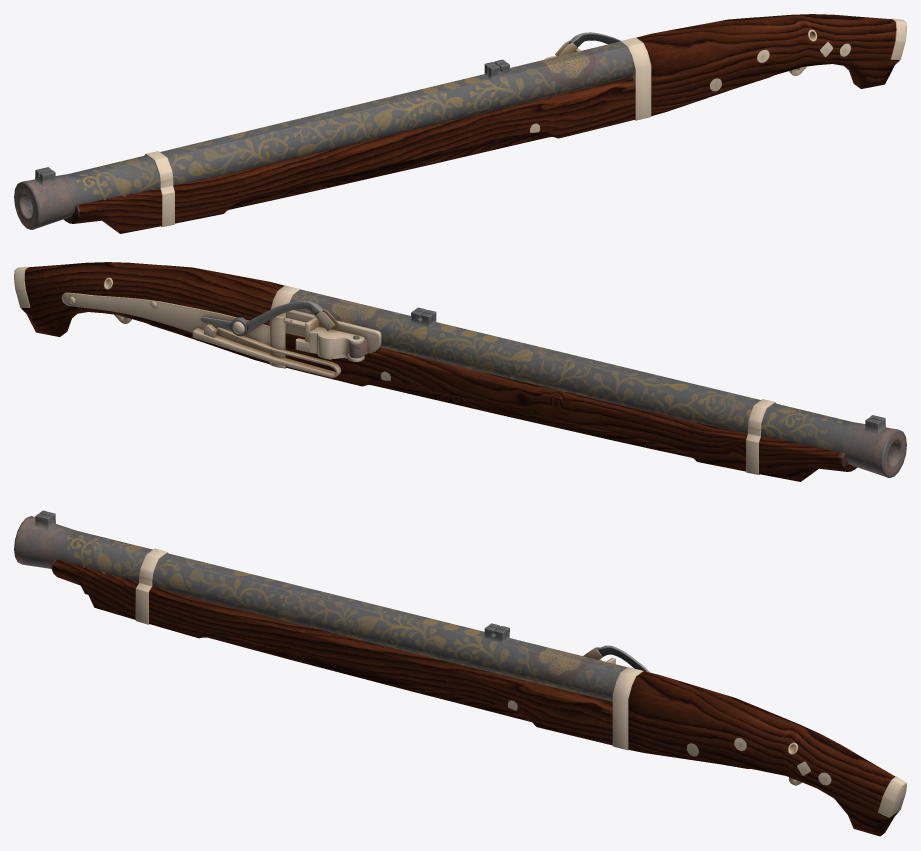
The model's file is Cannon.fbx.
3 views of the same model, one above another, from view 1: azimuth 30°, elevation 25°; view 2: azimuth 150°, elevation 25°; view 3: azimuth 330°, elevation 25° (orthographic).
Parts seen in each view (by area): view 1: Cannon; view 2: Cannon; view 3: Cannon.
Boxes of the visible parts, x1=… form: Cannon: x1=14, y1=14, x2=906, y2=233; Cannon: x1=14, y1=262, x2=906, y2=481; Cannon: x1=14, y1=510, x2=906, y2=836.
Size of the model in its own units: 106 by 13.32 by 7.6.
